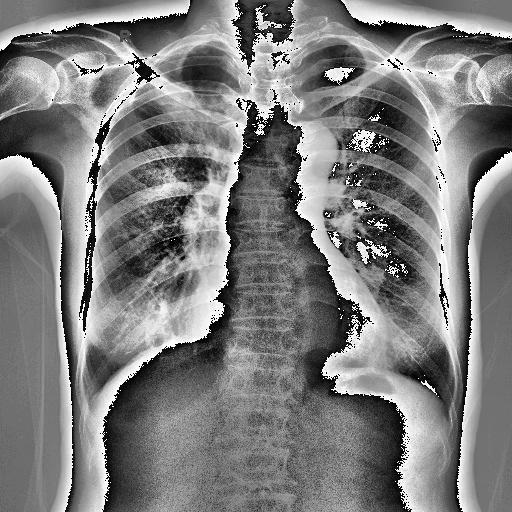13- Pulmonary fibrosis: (133, 72, 236, 134), (131, 104, 215, 150), (138, 72, 210, 122), (176, 43, 220, 56)
3- Cardiomegaly: (192, 266, 386, 368)
6- Infiltration: (133, 72, 236, 134)
7- Lung Opacity: (117, 299, 178, 346)
